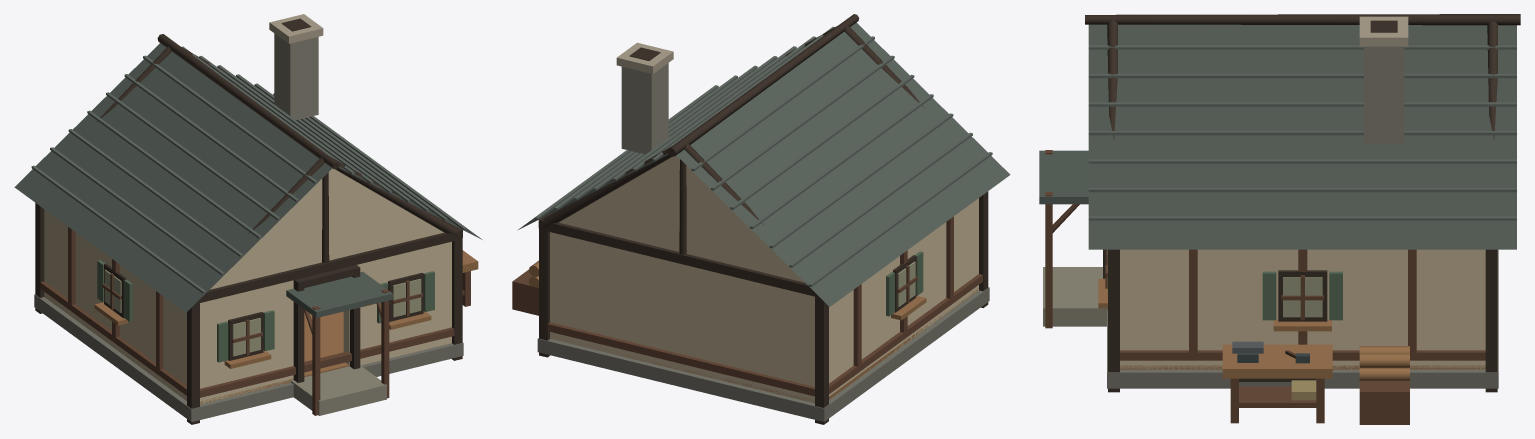
The model's file is Village_Workshop_6x6.glb.
The picture shows the model from 3 angles, left to right: view 1: azimuth 30°, elevation 25°; view 2: azimuth 150°, elevation 25°; view 3: azimuth 270°, elevation 25°; orthographic projection. The views are drawn at different scales.
Parts seen in each view (by area): view 1: _MeshInstance3D_4824, _MeshInstance3D_4794, _MeshInstance3D_4776, _MeshInstance3D_4779, _MeshInstance3D_4774, _MeshInstance3D_4780, _MeshInstance3D_4841, _MeshInstance3D_4847, _MeshInstance3D_4793, _MeshInstance3D_4862, _MeshInstance3D_4792, _MeshInstance3D_4840 (+39 smaller); view 2: _MeshInstance3D_4824, _MeshInstance3D_4778, _MeshInstance3D_4788, _MeshInstance3D_4776, _MeshInstance3D_4774, _MeshInstance3D_4841, _MeshInstance3D_4787, _MeshInstance3D_4786, _MeshInstance3D_4840, _MeshInstance3D_4798, _MeshInstance3D_4782, _MeshInstance3D_4790 (+25 smaller); view 3: _MeshInstance3D_4825, _MeshInstance3D_4777, _MeshInstance3D_4774, _MeshInstance3D_4840, _MeshInstance3D_4841, _MeshInstance3D_4874, _MeshInstance3D_4847, _MeshInstance3D_4862, _MeshInstance3D_4882, _MeshInstance3D_4811, _MeshInstance3D_4827, _MeshInstance3D_4831 (+23 smaller).
Boxes of the visible parts, x1,y1,x2,y2 form: _MeshInstance3D_4824: (14,43,332,312); _MeshInstance3D_4794: (210,168,443,289); _MeshInstance3D_4776: (44,209,202,401); _MeshInstance3D_4779: (200,280,293,404); _MeshInstance3D_4774: (34,294,463,421); _MeshInstance3D_4780: (343,242,451,366); _MeshInstance3D_4841: (274,33,318,120); _MeshInstance3D_4847: (291,365,386,415); _MeshInstance3D_4793: (195,227,461,304); _MeshInstance3D_4862: (286,271,392,317); _MeshInstance3D_4792: (200,327,454,397); _MeshInstance3D_4840: (157,34,339,169); _MeshInstance3D_4824: (676,22,1010,306); _MeshInstance3D_4778: (550,232,814,403); _MeshInstance3D_4788: (559,155,804,282); _MeshInstance3D_4776: (812,198,978,396); _MeshInstance3D_4774: (537,287,989,421); _MeshInstance3D_4841: (621,63,668,154); _MeshInstance3D_4787: (540,217,819,297); _MeshInstance3D_4786: (547,322,814,396); _MeshInstance3D_4840: (667,14,858,156); _MeshInstance3D_4798: (829,274,982,393); _MeshInstance3D_4782: (815,296,828,424); _MeshInstance3D_4790: (541,146,671,227); _MeshInstance3D_4825: (1088,24,1516,249); _MeshInstance3D_4777: (1120,249,1485,369); _MeshInstance3D_4774: (1107,249,1498,388); _MeshInstance3D_4840: (1085,14,1520,25); _MeshInstance3D_4841: (1364,46,1404,143); _MeshInstance3D_4874: (1222,344,1332,378); _MeshInstance3D_4847: (1043,267,1107,326); _MeshInstance3D_4862: (1039,150,1088,204); _MeshInstance3D_4882: (1359,381,1409,424); _MeshInstance3D_4811: (1120,350,1485,360); _MeshInstance3D_4827: (1088,216,1516,220); _MeshInstance3D_4831: (1088,159,1516,163).
Bounding box in the file's own units: 7.91 × 5.82 × 7.64.
